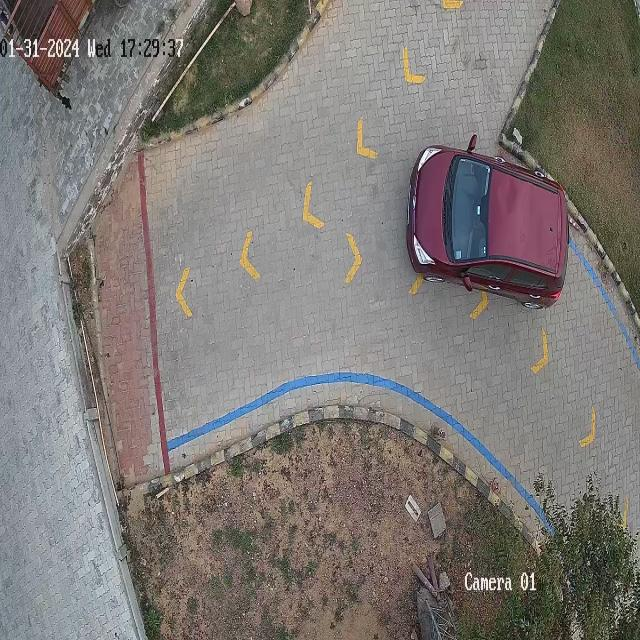car: (405, 138, 570, 309)
